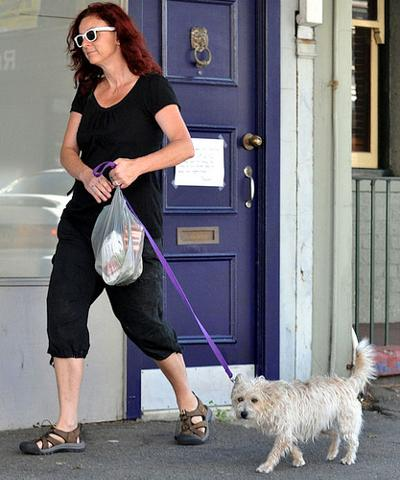person: (18, 4, 213, 449)
